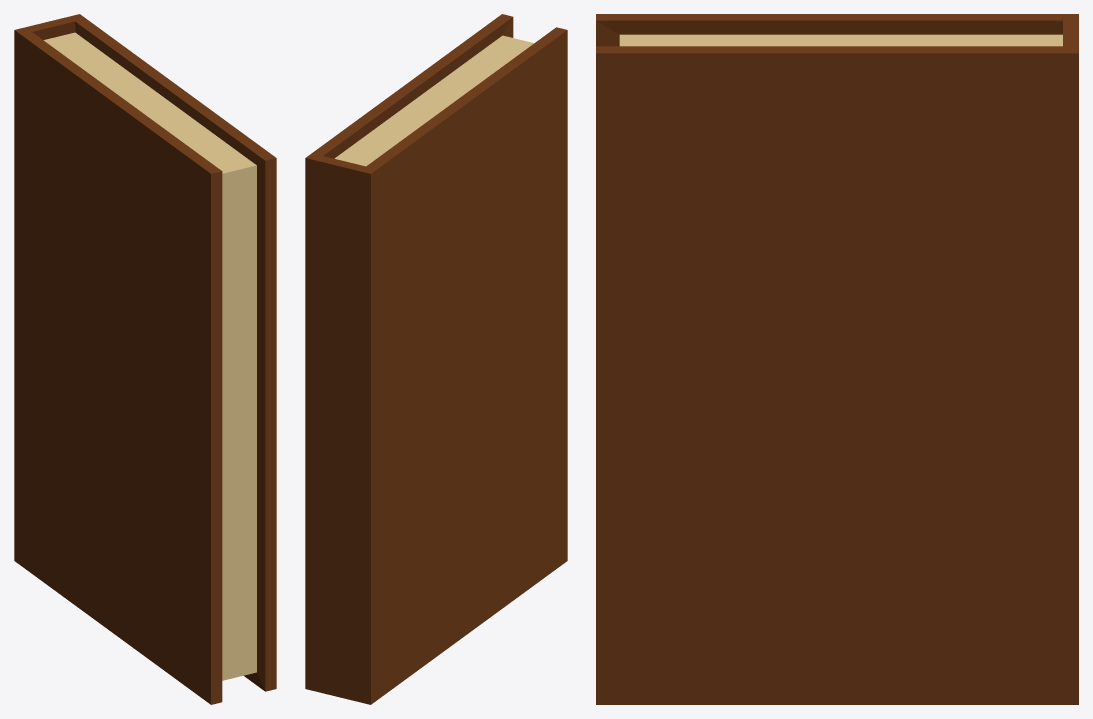
Rendered from Book1_050.fbx.
3 renders of one model, left to right at view 1: azimuth 30°, elevation 25°; view 2: azimuth 150°, elevation 25°; view 3: azimuth 270°, elevation 25°, orthographic. The views are drawn at different scales.
Visible parts, largest first — view 1: Book1.050; view 2: Book1.050; view 3: Book1.050.
Boxes of the visible parts, box(x1,y1,x2,y2) form: Book1.050: box(14, 14, 276, 704); Book1.050: box(305, 14, 567, 704); Book1.050: box(596, 14, 1078, 704).
Size of the model in its own units: 5.69 by 44.08 by 29.6.
